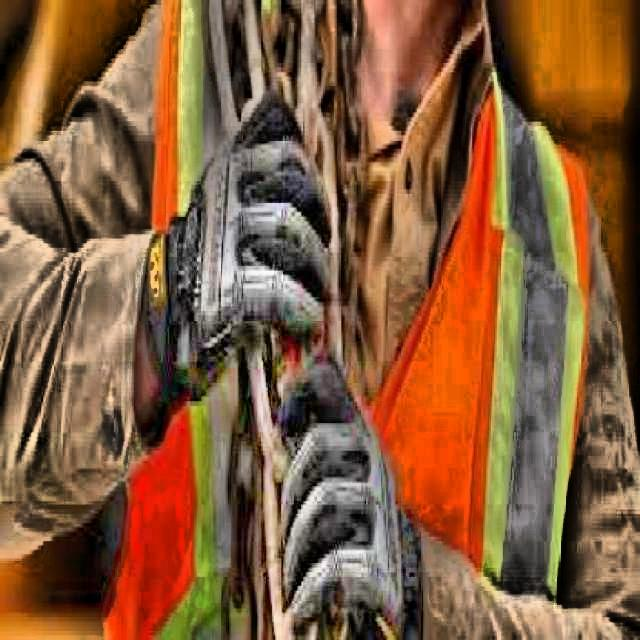safety_jacket: (113, 0, 589, 640)
